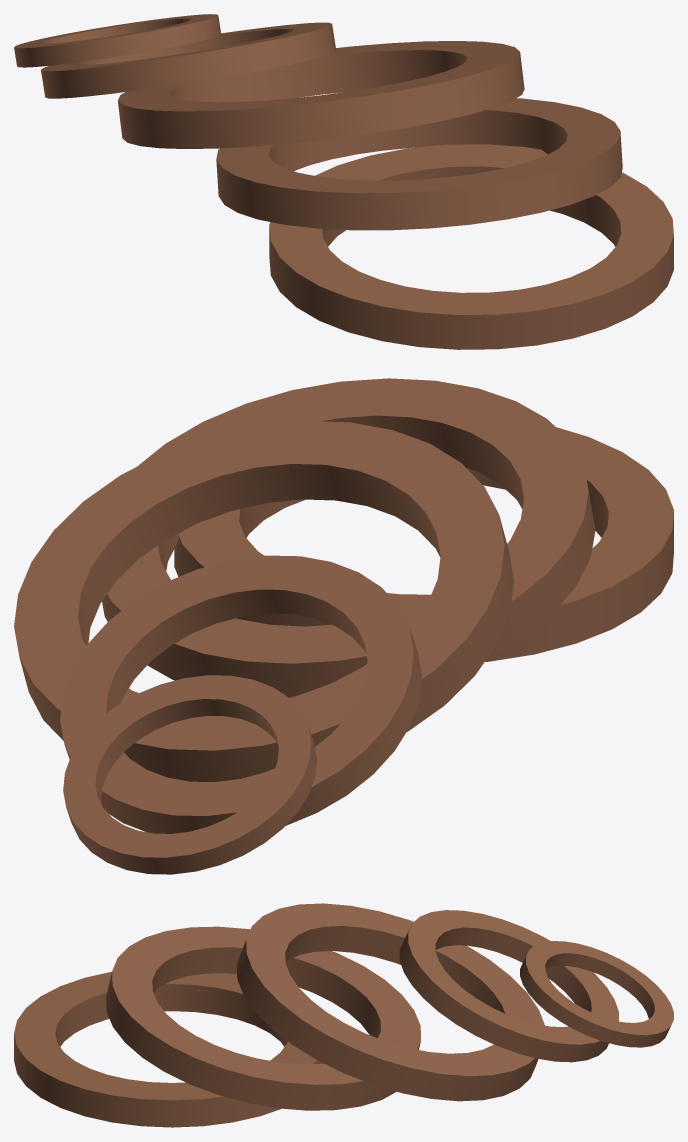
Rendered from cutOnion.fbx.
3 views of the same model, one above another, from view 1: azimuth 30°, elevation 25°; view 2: azimuth 150°, elevation 25°; view 3: azimuth 270°, elevation 25° (orthographic). The views are drawn at different scales.
Parts seen in each view (by area): view 1: Cylinder; view 2: Cylinder; view 3: Cylinder.
Part boxes in pixels (<box>): Cylinder: <box>14,14,673,349</box>; Cylinder: <box>14,378,673,874</box>; Cylinder: <box>14,903,673,1127</box>.
Size of the model in its own units: 215 by 82.08 by 417.
